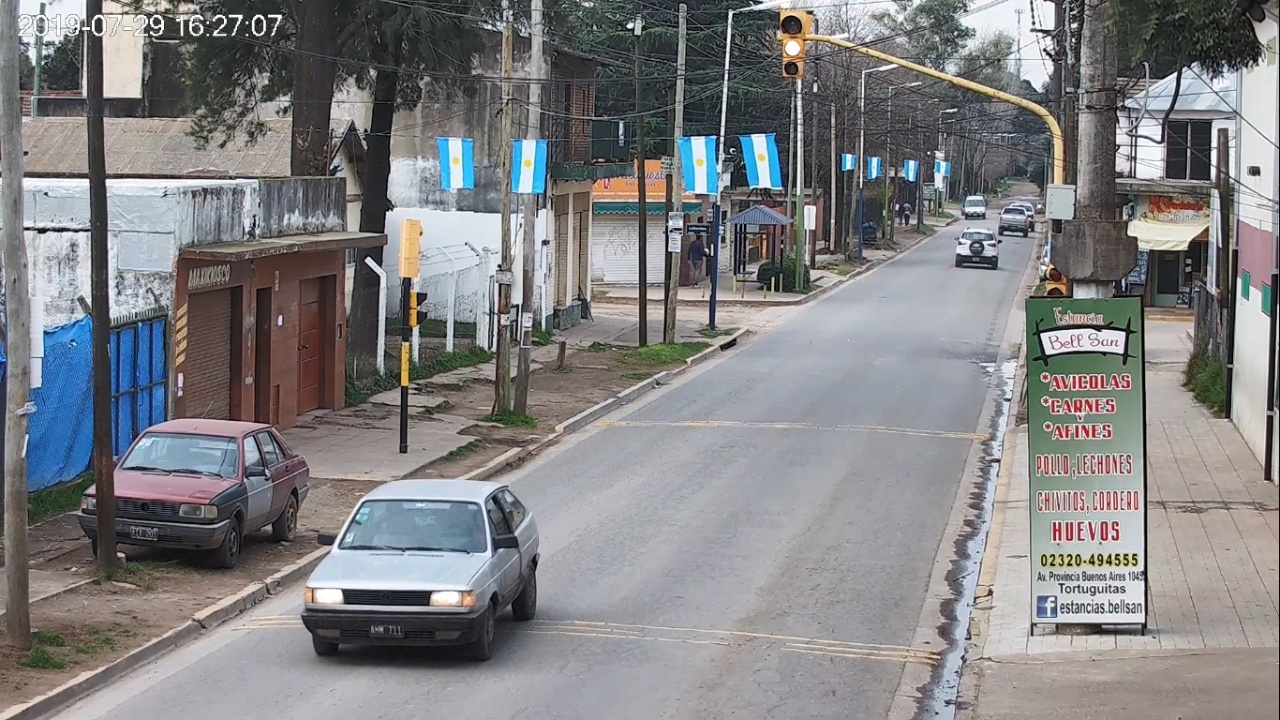car: (954, 227, 1003, 270)
front car: (304, 480, 540, 661)
traffic light: (782, 10, 802, 77)
